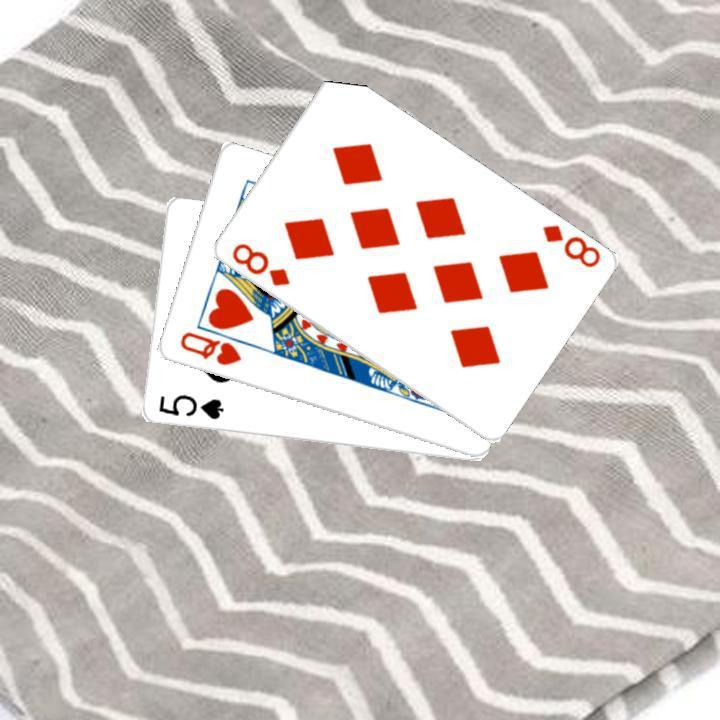5: (153, 390, 225, 422)
8: (226, 238, 292, 289), (537, 220, 602, 270)
Q: (175, 327, 243, 368)
